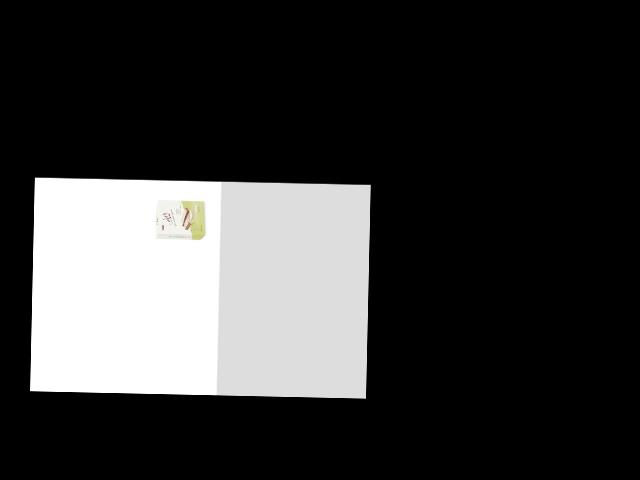chocolate: (154, 195, 208, 242)
